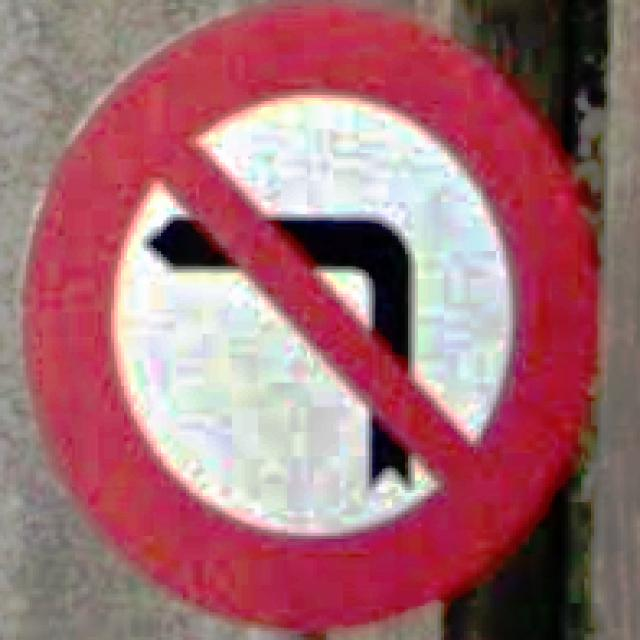noturnleft: (16, 0, 604, 634)
